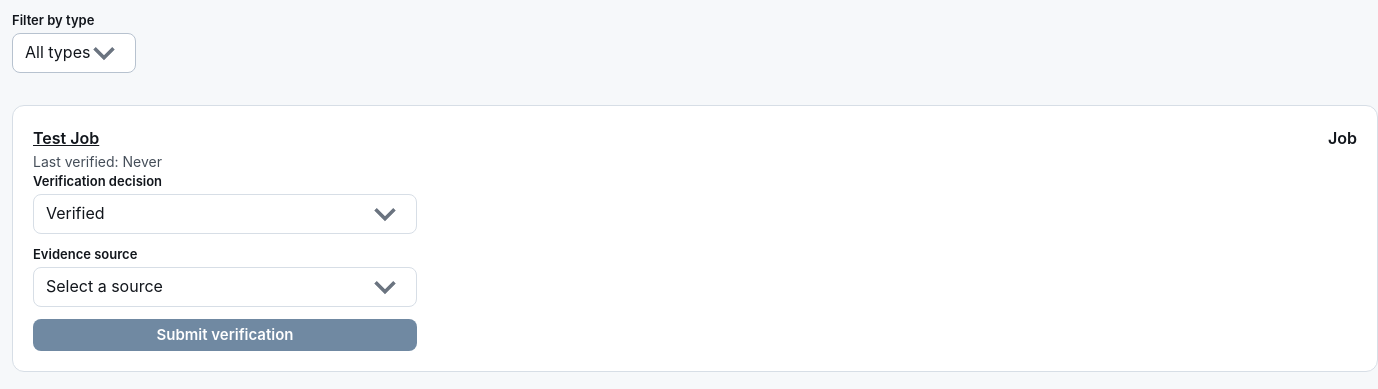
Scenario: VerificationQueue (Admin Intelligence Center) › submits a verification decision with the required evidence source
This screenshot has width=1378, height=389.
Expected: the link "Test Job" is shown, [33,126,99,152]
Select "Test Notice — Test Board" in the dropdown labelled "Evidence source": coordinates (225, 287) [33,267,417,307]
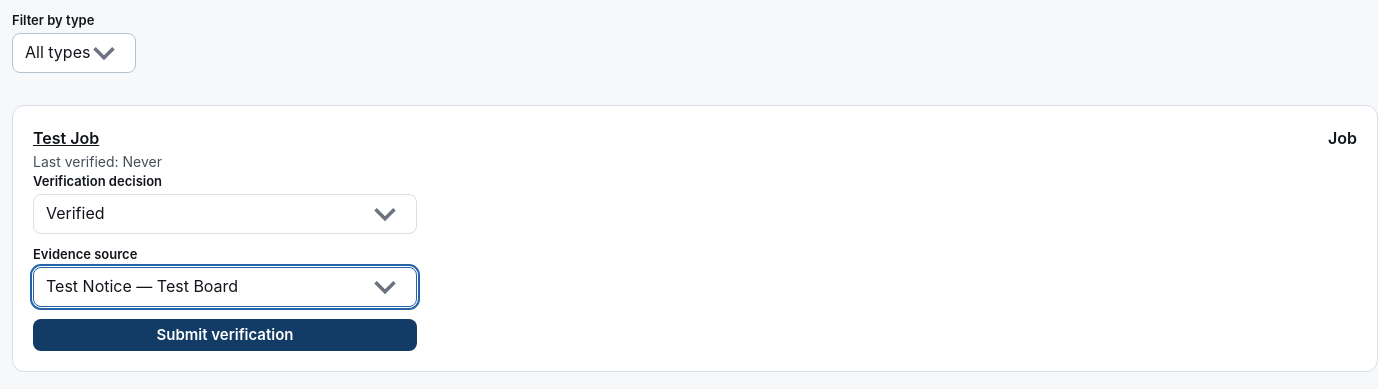
Click the button "Submit verification": coordinates (225, 335) [33,319,417,351]
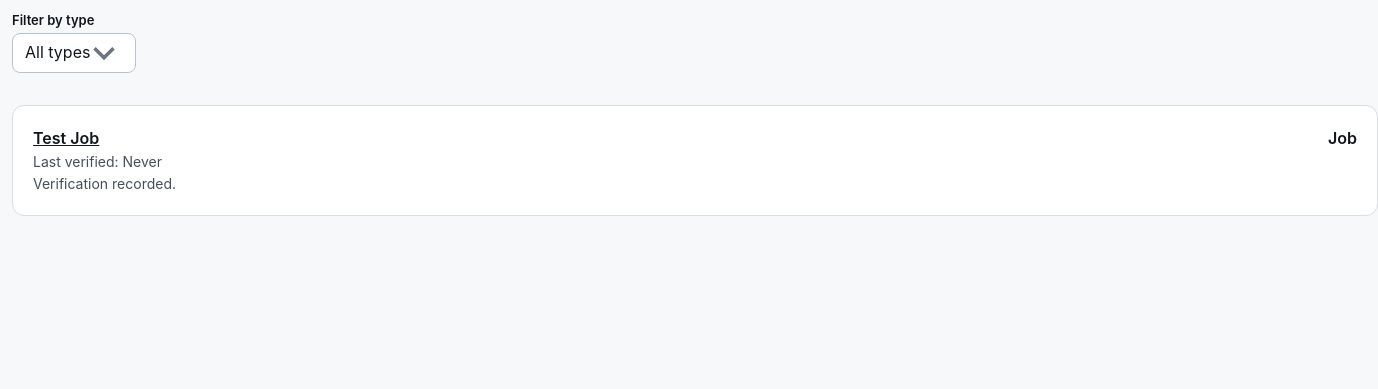
Result: the text "Verification recorded." is shown at [33,175,176,192]
